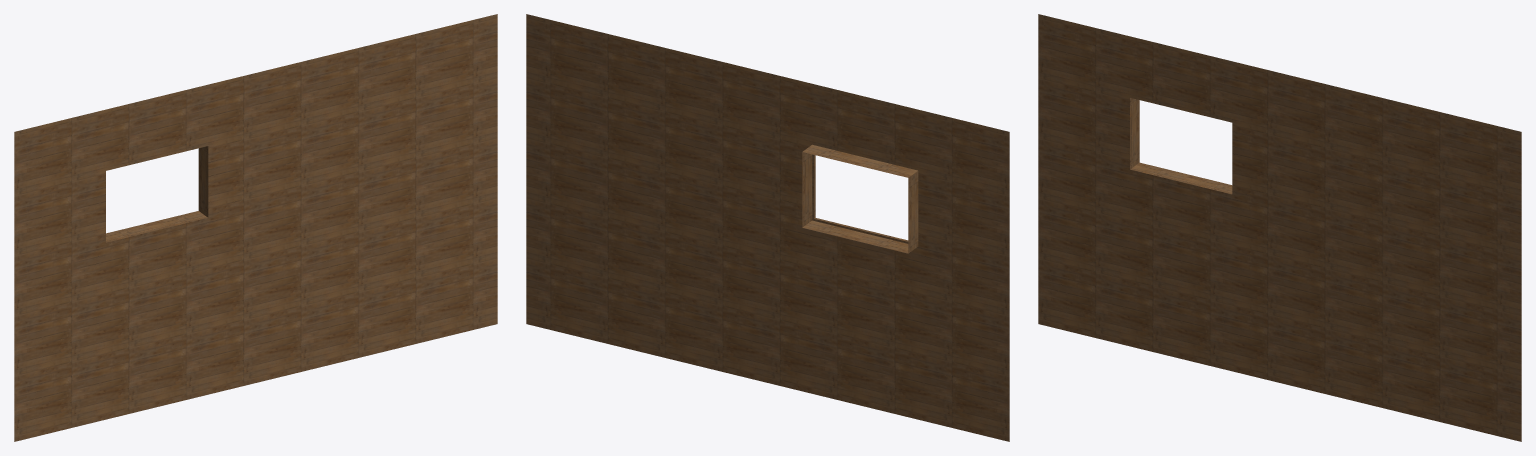
The model's file is Floor_Tiled.obj.
3 views of the same model, side by side, from view 1: azimuth 30°, elevation 25°; view 2: azimuth 150°, elevation 25°; view 3: azimuth 330°, elevation 25° (orthographic).
Parts seen in each view (by area): view 1: polySurface146.048; view 2: polySurface146.048; view 3: polySurface146.048.
Boxes of the visible parts, x1,y1,x2,y2 form: polySurface146.048: (14, 14, 497, 441); polySurface146.048: (526, 14, 1009, 441); polySurface146.048: (1038, 14, 1521, 441).
Size of the model in its own units: 42.11 by 25.82 by 1.75.
